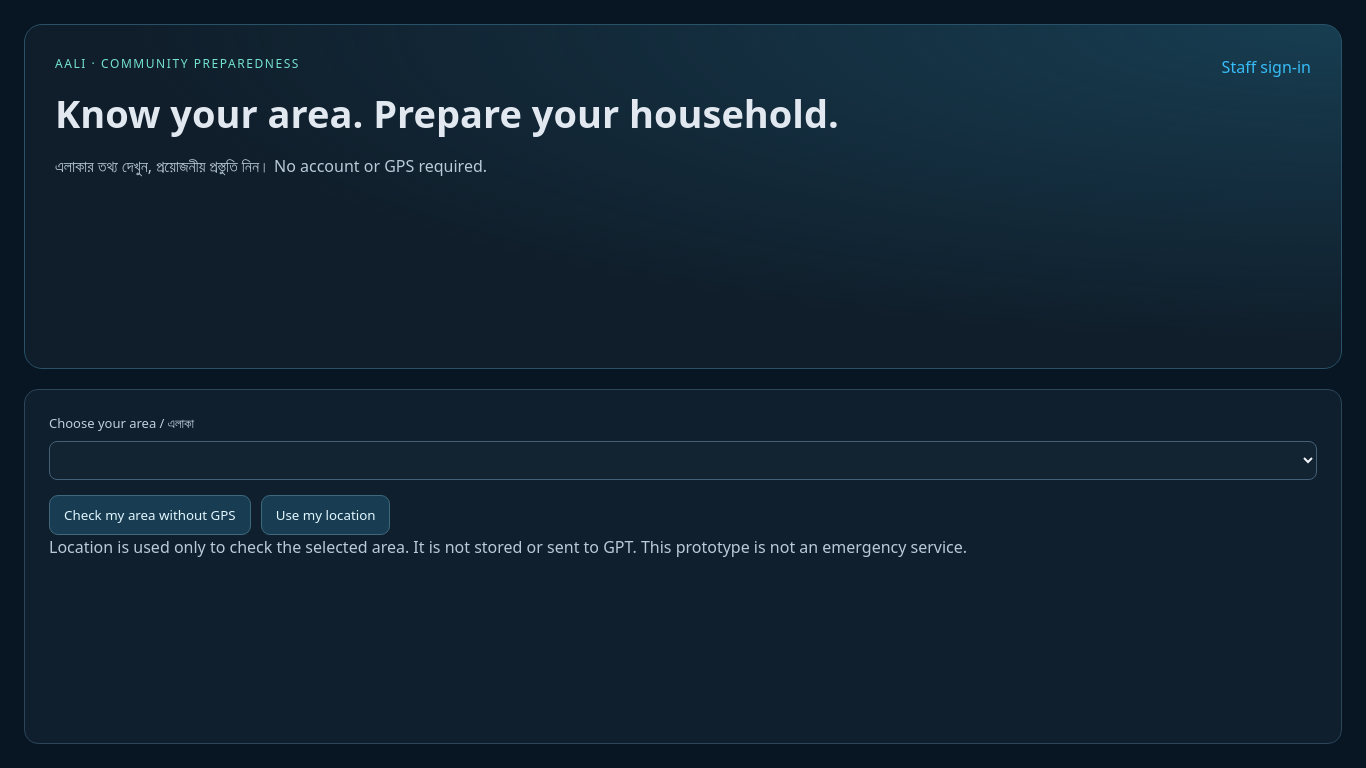
Test: public household preparedness › works without an account or coordinates and does not fabricate shelter availability
The image size is (1366, 768).
Click the button "Check my area without GPS".
click(150, 515)  # box x1=49 y1=495 x2=251 y2=535
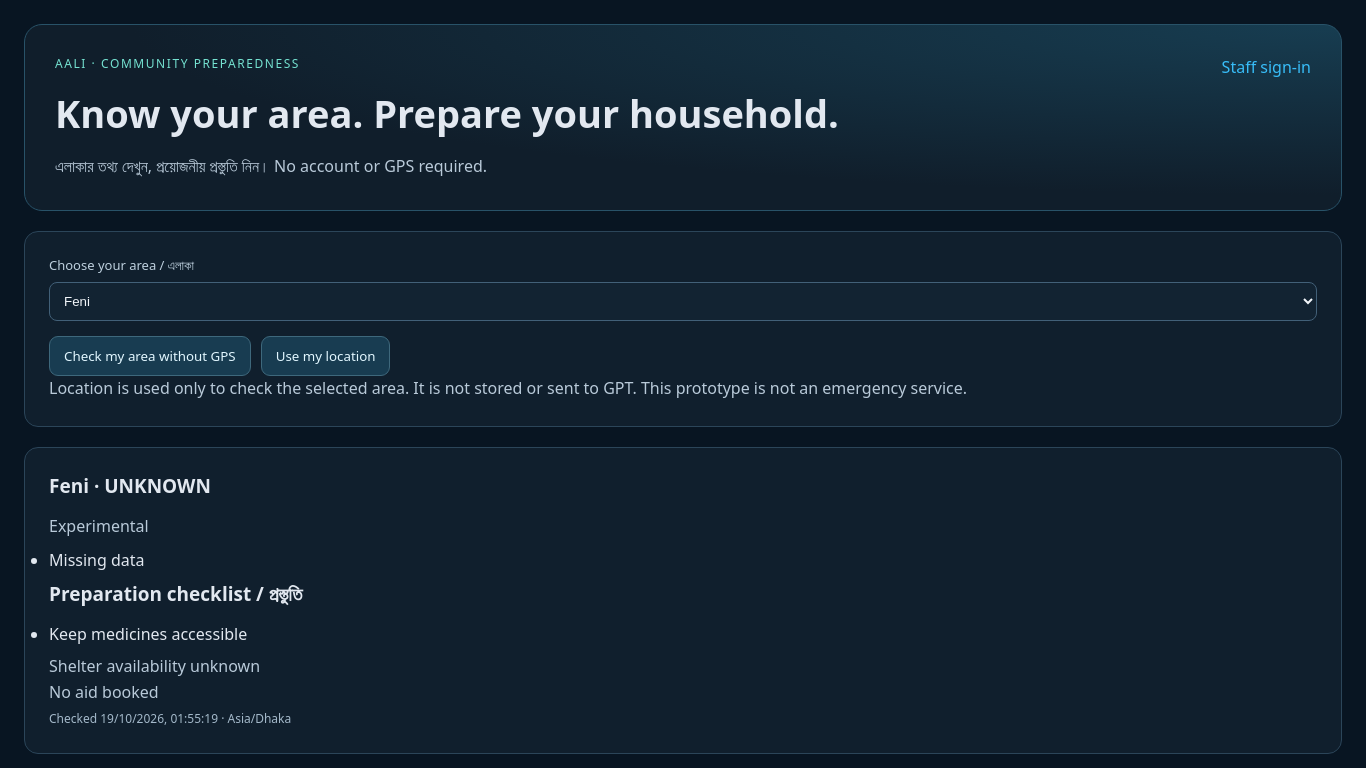
Check: the text "Shelter availability unknown" is shown, box x1=49 y1=655 x2=260 y2=677
